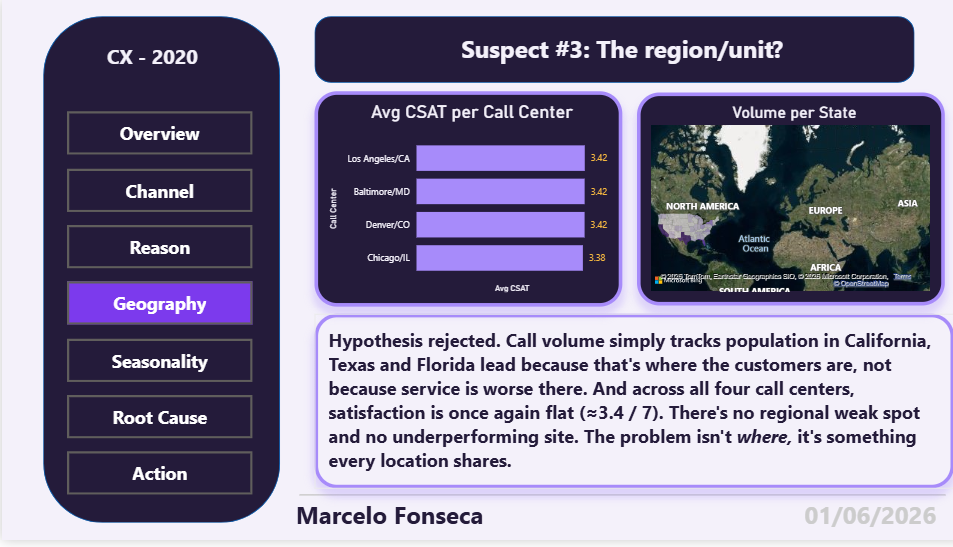

What the dashboard file says about the page in this screenshot:
{"tool":"powerbi","page":{"name":"Geography","canvas":[1280,720],"ordinal":4},"visuals":[{"type":"shape","box":[54.4,21.1,315.8,675.4],"z":0},{"type":"textbox","box":[135.5,50.9,149.1,57.9],"z":1000},{"type":"shape","box":[417.1,21.4,800,88.6],"z":2000},{"type":"textbox","box":[448.6,38.6,757.1,71.4],"z":3000},{"type":"shape","box":[396.5,629.8,861.4,59.6],"z":4000},{"type":"textbox","box":[386,659.6,300,59.6],"z":5000},{"type":"textbox","box":[1064.9,659.6,193,59.6],"z":6000},{"type":"actionButton","title":"Overview","box":[86.4,149.1,247.4,57.9],"z":7000},{"type":"actionButton","box":[86.4,224.6,247.4,57.9],"z":8000},{"type":"actionButton","box":[86.4,300,247.4,57.9],"z":9000},{"type":"actionButton","box":[86.4,375.4,247.4,57.9],"z":10000},{"type":"actionButton","box":[86.4,450.9,247.4,57.9],"z":11000},{"type":"actionButton","box":[86.4,526.3,247.4,57.9],"z":12000},{"type":"actionButton","box":[86.4,601.8,247.4,57.9],"z":13000},{"type":"filledMap","title":"Volume per State","fields":{"Category":["Call Center Data.State"]},"box":[847.1,123.7,410,284.3],"z":13001},{"type":"clusteredBarChart","title":"Avg CSAT per Call Center","fields":{"Category":["Call Center Data.Call Center"],"Y":["Call Center Data.Avg CSAT"]},"box":[417.1,120.9,410,287.1],"z":13002},{"type":"textbox","box":[417.1,418.6,852.9,232.9],"z":13003}]}

Visuals, with their boxes in screenshot pixels (x1, y1, x2, y2), scaled from the page's 1280x720 canvas onto the 953x547 screenshot:
shape: 41,16,276,529
textbox: 101,39,212,83
shape: 311,16,906,84
textbox: 334,29,898,84
shape: 295,478,937,524
textbox: 287,501,511,546
textbox: 793,501,937,546
"Overview" actionButton: 64,113,249,157
actionButton: 64,171,249,215
actionButton: 64,228,249,272
actionButton: 64,285,249,329
actionButton: 64,343,249,387
actionButton: 64,400,249,444
actionButton: 64,457,249,501
"Volume per State" filledMap: 631,94,936,310
"Avg CSAT per Call Center" clusteredBarChart: 311,92,616,310
textbox: 311,318,946,495
